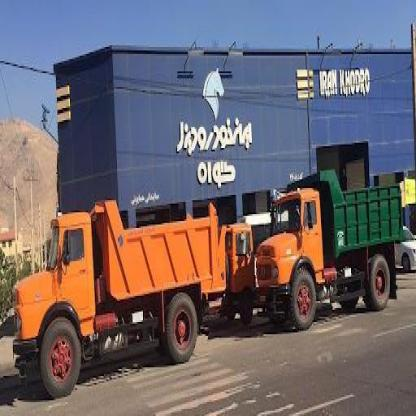Car: (389, 214, 416, 277)
Truck: (14, 186, 223, 399), (253, 180, 401, 326), (226, 230, 258, 325)
